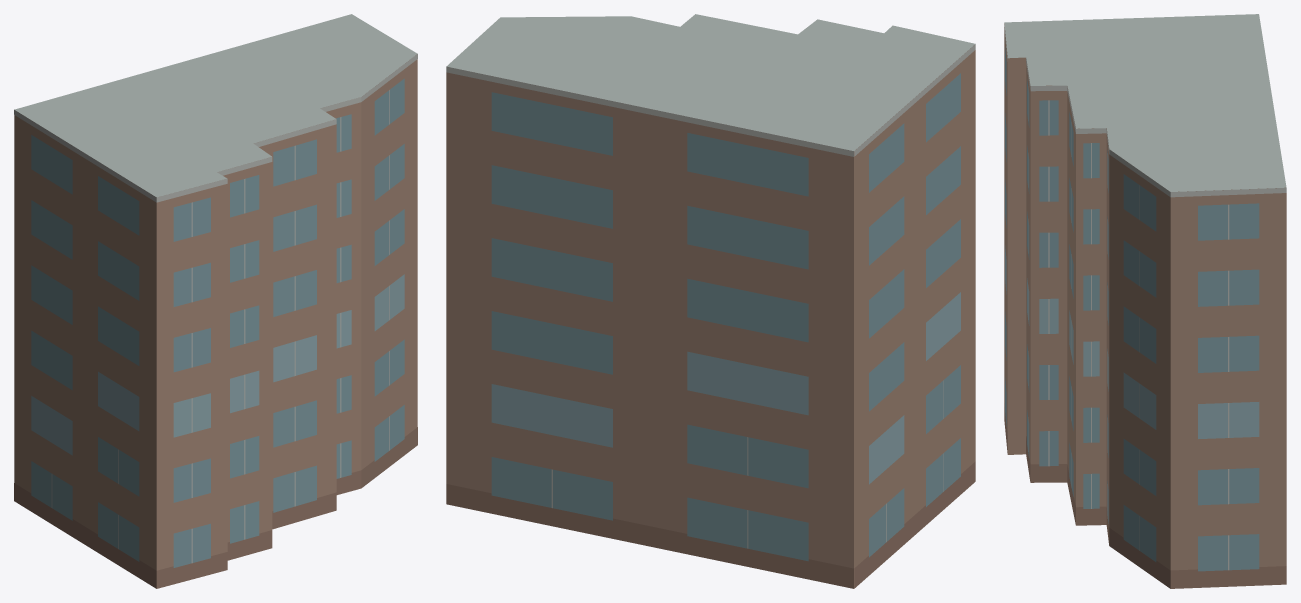
File: survey-upis-32958068.glb
The picture shows the model from 3 angles, left to right: view 1: azimuth 30°, elevation 25°; view 2: azimuth 150°, elevation 25°; view 3: azimuth 270°, elevation 25°; orthographic projection. The views are drawn at different scales.
Parts seen in each view (by area): view 1: survey-upis-32958068.tmp; view 2: survey-upis-32958068.tmp; view 3: survey-upis-32958068.tmp.
Boxes of the visible parts, <box> form: survey-upis-32958068.tmp: <box>14,14,417,588</box>; survey-upis-32958068.tmp: <box>446,14,975,588</box>; survey-upis-32958068.tmp: <box>1004,14,1286,588</box>.
Bounding box in the file's own units: 17.72 × 18.4 × 11.87.
